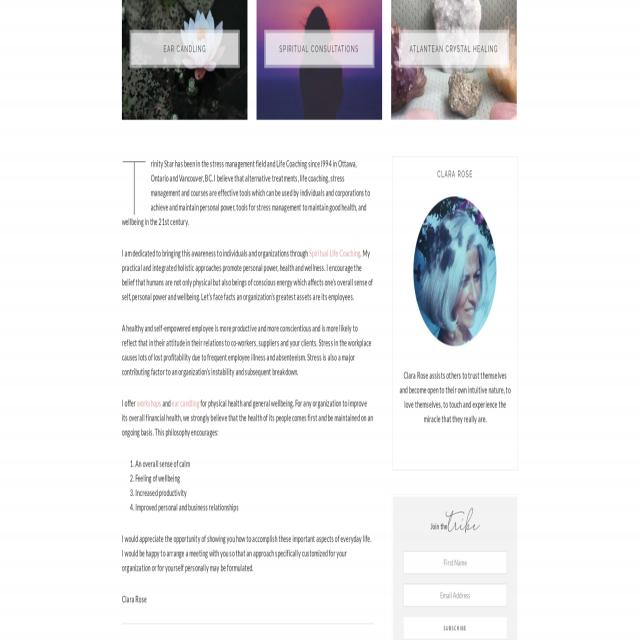button: (120, 0, 246, 120), (257, 0, 382, 120), (391, 0, 516, 120), (412, 191, 498, 351), (402, 615, 506, 640)
field: (403, 583, 507, 607), (403, 551, 507, 574)
